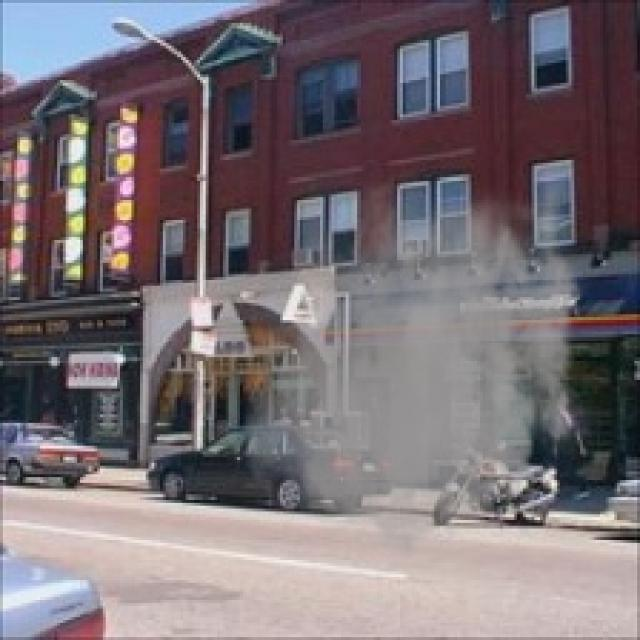smoke: (231, 160, 600, 580)
